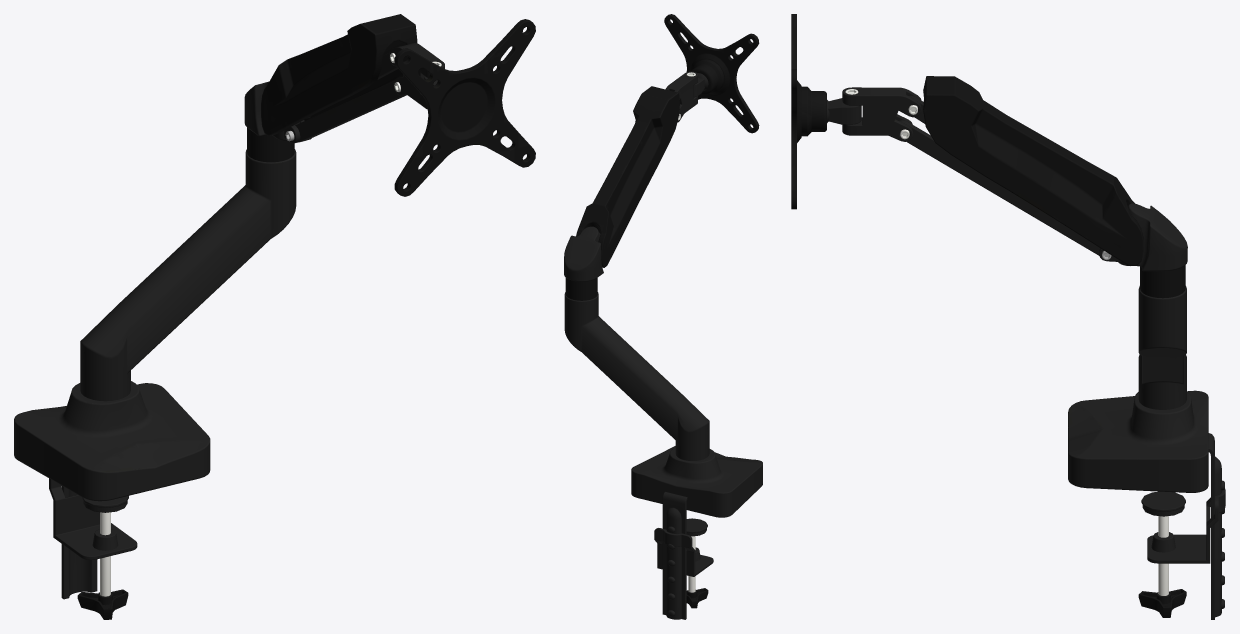
File: vesa-arm.glb
3 renders of one model, left to right at view 1: azimuth 30°, elevation 25°; view 2: azimuth 150°, elevation 25°; view 3: azimuth 270°, elevation 25°, orthographic. The views are drawn at different scales.
Parts seen in each view (by area): view 1: VESA_Base, VESA_Post, VESA_UpperArm, VESA_Plate, VESA_Collar, VESA_Tilt; view 2: VESA_Base, VESA_Post, VESA_UpperArm, VESA_Plate, VESA_Collar, VESA_Tilt; view 3: VESA_Base, VESA_UpperArm, VESA_Post, VESA_Collar, VESA_Plate, VESA_Tilt.
Boxes of the visible parts, left/top/right/bottom form: VESA_Base: left=14, top=381, right=210, bottom=619; VESA_Post: left=80, top=149, right=296, bottom=401; VESA_UpperArm: left=261, top=14, right=417, bottom=142; VESA_Plate: left=394, top=19, right=535, bottom=196; VESA_Collar: left=244, top=81, right=311, bottom=162; VESA_Tilt: left=389, top=43, right=444, bottom=109; VESA_Base: left=631, top=446, right=762, bottom=619; VESA_Post: left=564, top=292, right=709, bottom=460; VESA_UpperArm: left=576, top=86, right=679, bottom=267; VESA_Plate: left=664, top=14, right=759, bottom=133; VESA_Collar: left=564, top=226, right=603, bottom=300; VESA_Tilt: left=665, top=71, right=697, bottom=122; VESA_Base: left=1068, top=390, right=1225, bottom=619; VESA_UpperArm: left=899, top=76, right=1143, bottom=265; VESA_Post: left=1138, top=286, right=1186, bottom=409; VESA_Collar: left=1099, top=203, right=1187, bottom=298; VESA_Plate: left=791, top=14, right=862, bottom=209; VESA_Tilt: left=842, top=87, right=921, bottom=141.
Bounding box in the file's own units: 0.2489 × 0.525 × 0.3197.
1 material, 1 textured.
